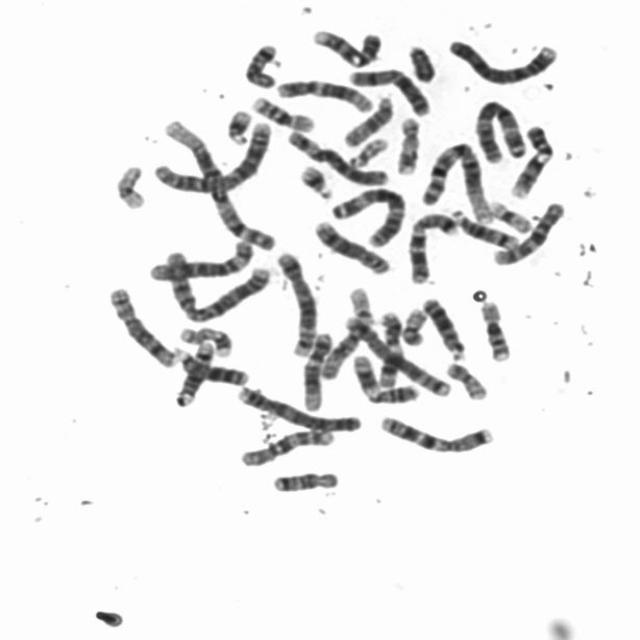A1: (156, 112, 278, 253), (415, 135, 495, 224)
A2: (147, 112, 274, 195), (154, 244, 273, 323)
A3: (323, 179, 409, 249), (468, 92, 530, 164)
B4: (230, 380, 364, 434), (440, 30, 563, 87)
B5: (338, 309, 454, 398), (270, 244, 320, 359)
C10: (486, 195, 567, 266), (232, 422, 336, 468)
C11: (345, 347, 421, 405), (372, 304, 407, 390)
C12: (270, 72, 375, 114), (295, 326, 335, 412)
C6: (280, 124, 391, 188), (143, 233, 255, 284)
C7: (372, 407, 497, 455), (400, 204, 462, 286)
C8: (101, 280, 179, 369), (306, 213, 393, 275)
C9: (502, 118, 556, 199), (304, 21, 385, 69)
D13: (165, 341, 250, 387), (416, 290, 469, 362)
D14: (168, 336, 217, 408), (447, 203, 521, 250)
D15: (317, 317, 369, 386), (337, 89, 397, 148)
E16: (244, 88, 317, 132), (473, 293, 514, 363)
E17: (173, 320, 236, 358), (389, 110, 423, 176)
E18: (236, 36, 282, 90), (266, 464, 341, 494)
F19: (108, 157, 148, 211), (482, 194, 534, 234)
F20: (439, 355, 490, 401), (395, 301, 429, 346)
G21: (292, 157, 336, 200), (219, 102, 254, 146)
G22: (342, 131, 390, 168), (341, 280, 376, 325)
X: (341, 60, 434, 117)
Y: (400, 37, 439, 83)
